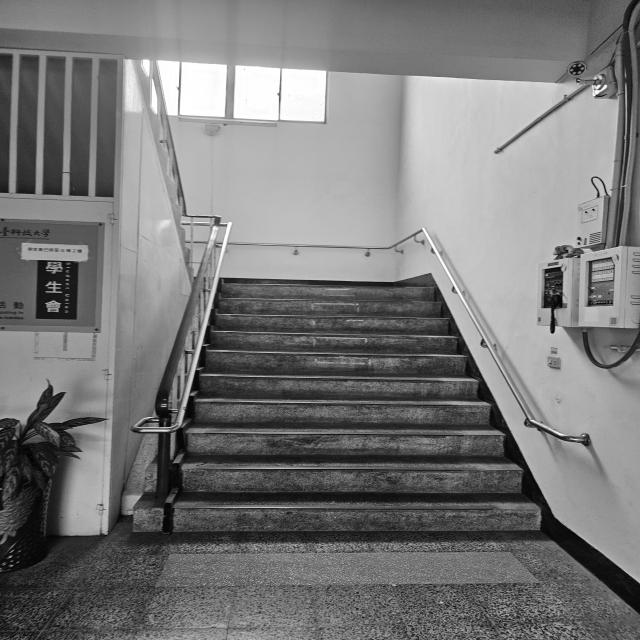floor: (174, 281, 539, 533)
